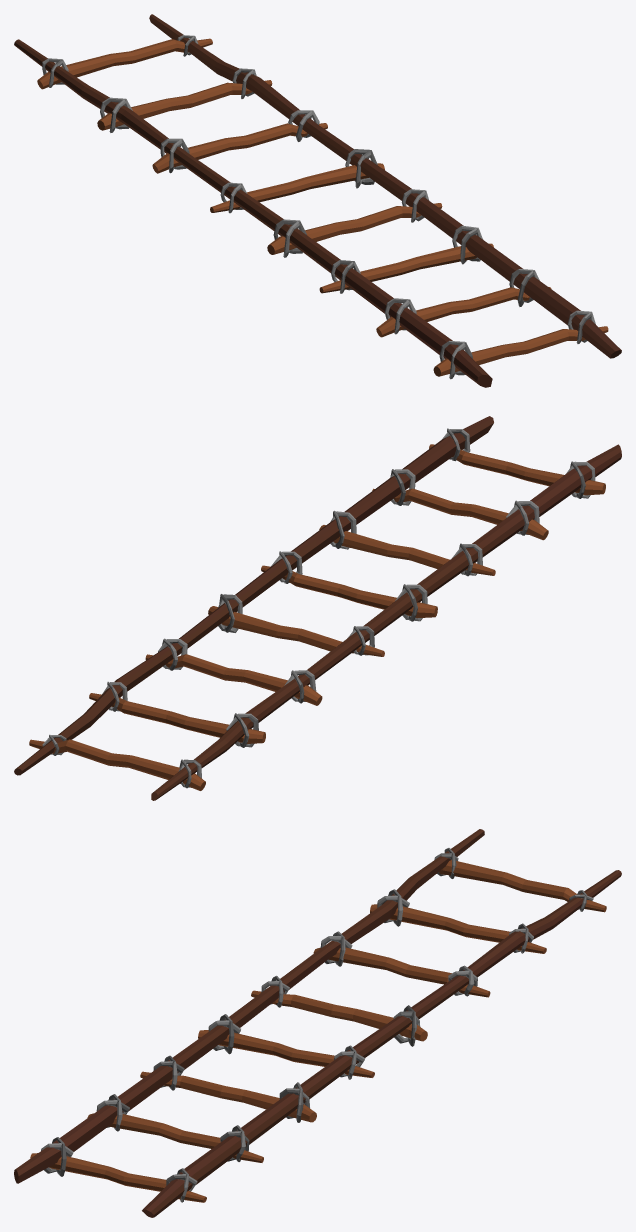
The model's file is Staircase.fbx.
The picture shows the model from 3 angles, top to bottom: view 1: azimuth 30°, elevation 25°; view 2: azimuth 150°, elevation 25°; view 3: azimuth 330°, elevation 25°; orthographic projection.
Parts seen in each view (by area): view 1: Staircase; view 2: Staircase; view 3: Staircase.
Boxes of the visible parts, x1,y1,x2,y2 form: Staircase: [14, 14, 621, 387]; Staircase: [14, 416, 621, 800]; Staircase: [14, 829, 621, 1217].
Bounding box in the file's own units: 1.28 × 0.2666 × 5.95.
